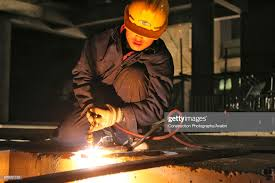safe person: (71, 1, 172, 148)
